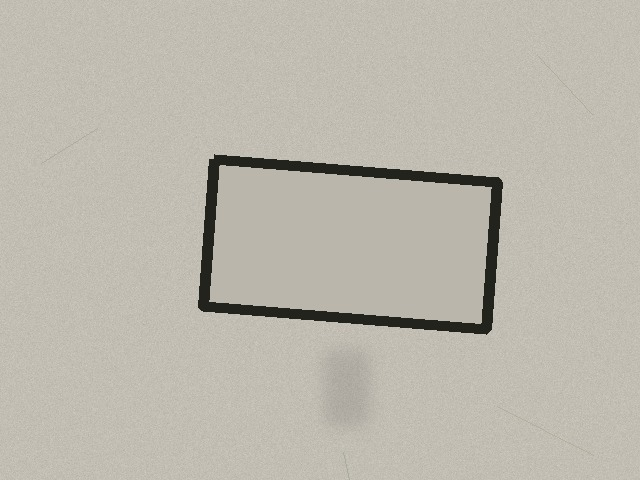parking_area: (203, 159, 497, 329)
